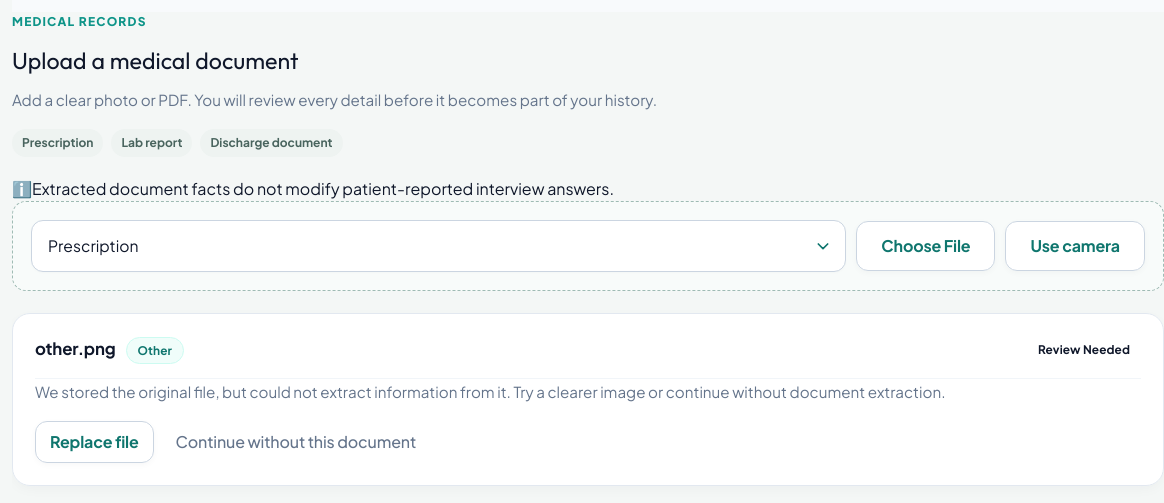
Test: explains why a stored arbitrary upload has no extraction or facts
This screenshot has width=1164, height=503.
Expected: the text "could not extract information" is shown, left=35, top=382, right=946, bottom=401
Expected: the button "Replace file" is shown, left=35, top=421, right=154, bottom=463
Click the button "Continue without this document" at (296,442), box left=162, top=421, right=430, bottom=463
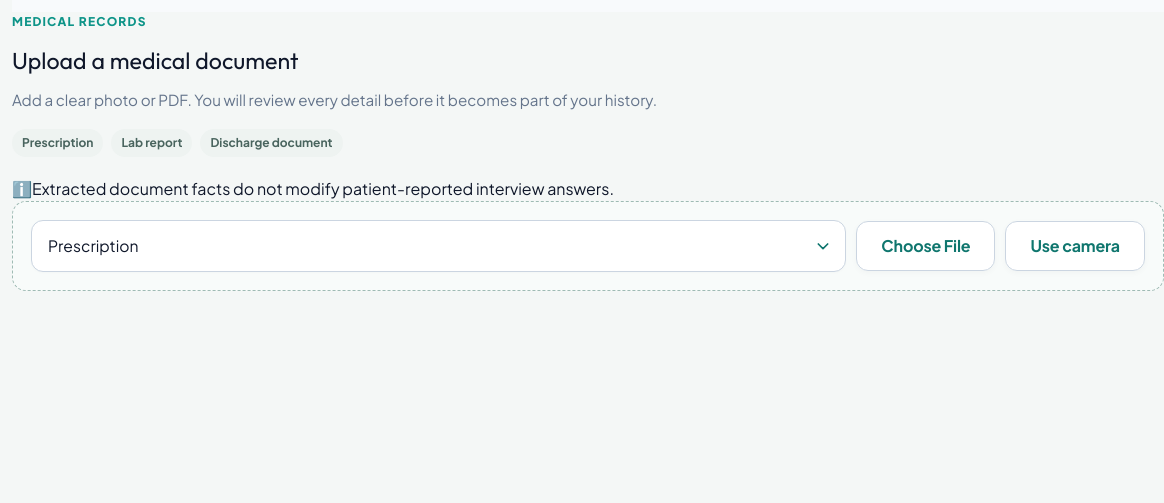
Expected: the text "other.png" is gone
